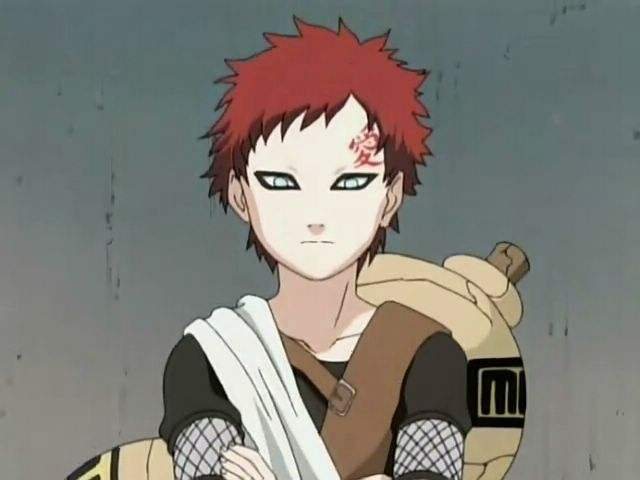gaara: (217, 82, 414, 283)
